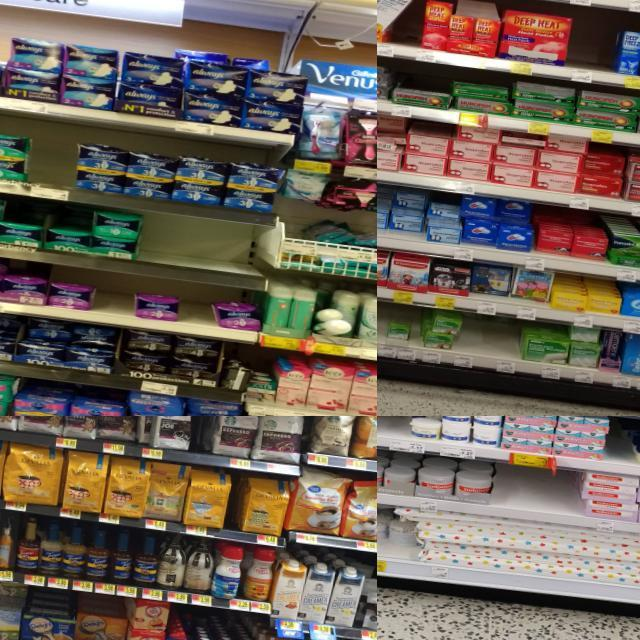empty: (138, 214, 252, 288), (491, 464, 572, 524), (30, 122, 78, 200), (568, 12, 614, 83), (94, 272, 136, 326), (175, 282, 212, 336), (486, 320, 522, 372), (457, 316, 489, 368), (385, 6, 417, 58), (602, 434, 630, 477), (377, 416, 399, 450)
